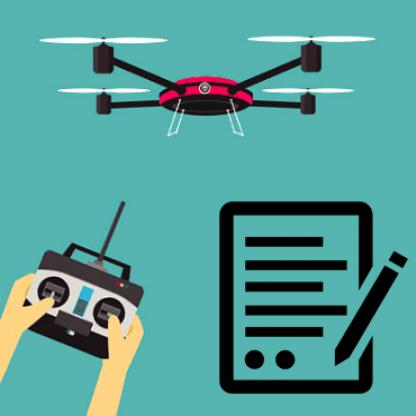drone: (31, 29, 392, 142)
